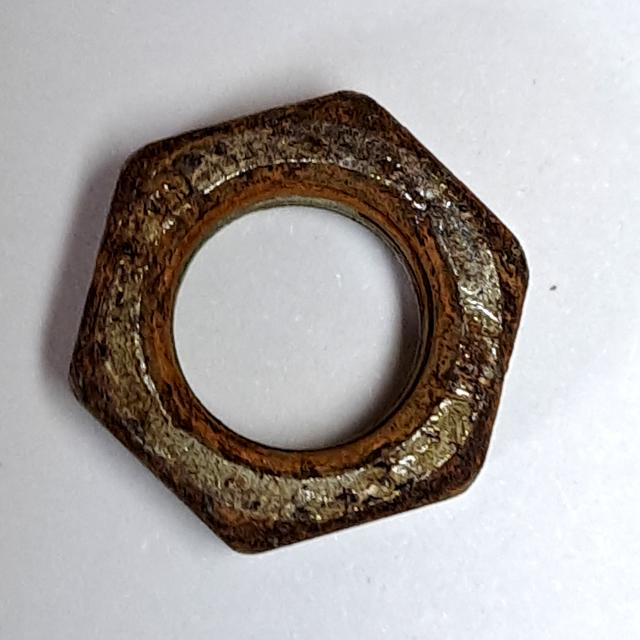Rust: (55, 72, 538, 564)
